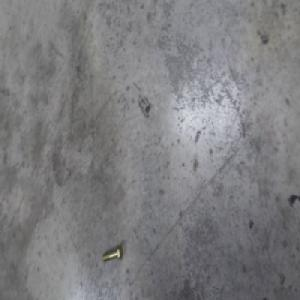Bolt: (101, 242, 123, 262)
